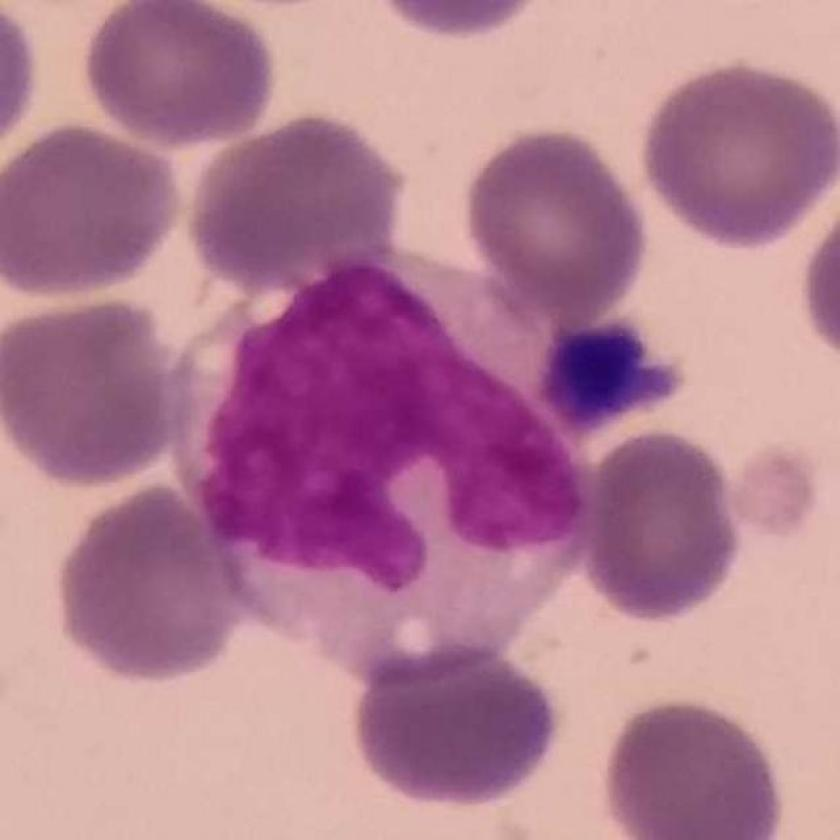monocyte: (156, 243, 606, 701)
